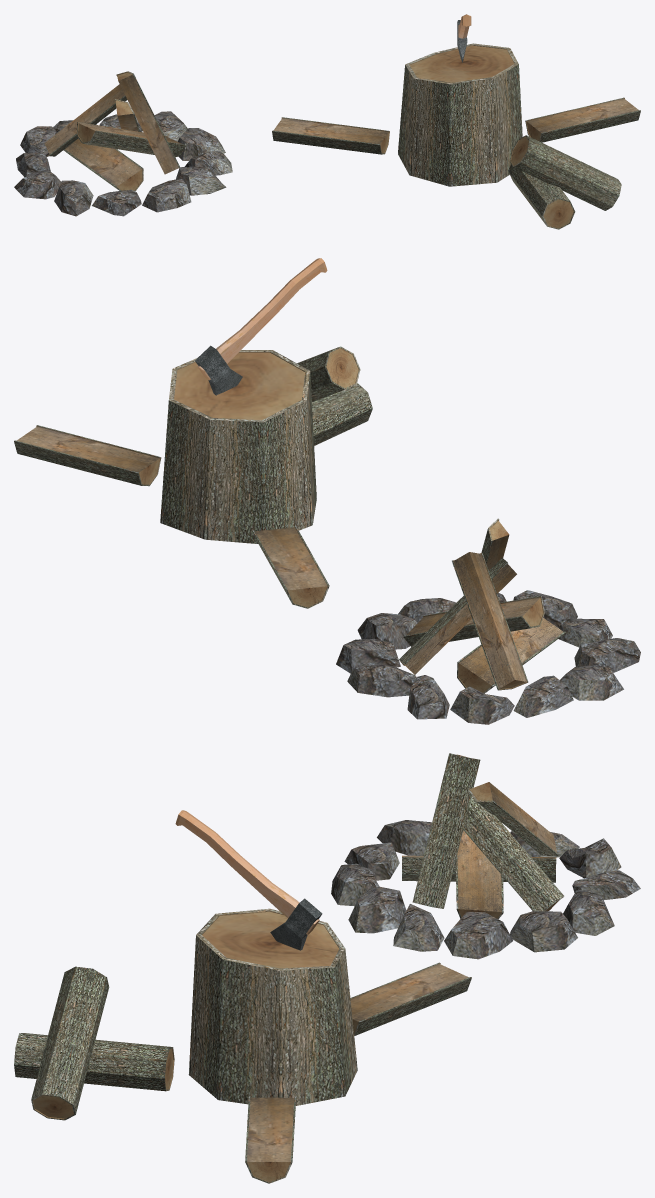
The model's file is 1IGP19_Grala_Jakub_Texture_3SimpleProps.fbx.
3 views of the same model, one above another, from view 1: azimuth 30°, elevation 25°; view 2: azimuth 150°, elevation 25°; view 3: azimuth 270°, elevation 25° (orthographic). The views are drawn at different scales.
Visible parts, largest first — view 1: Stump, CampfireRing, Firewood.002, Firewood_Half.002, Firewood_Half.004, Firewood_Half.001, Firewood.001, Firewood_Quarter.002, Firewood_Half.003, Firewood_Quarter.001, Firewood_Quarter.003, Axe; view 2: Stump, CampfireRing, Firewood_Half.004, Firewood_Quarter.001, Firewood_Half.002, Axe, Firewood_Quarter.003, Firewood_Half.001, Firewood.001, Firewood.002, Firewood_Half.003, Firewood_Quarter.002; view 3: Stump, CampfireRing, Firewood.002, Firewood.001, Firewood_Quarter.002, Firewood_Half.002, Firewood_Quarter.003, Firewood_Half.004, Axe, Firewood_Half.003, Firewood_Quarter.001, Firewood_Half.001.
Boxes of the visible parts, <box> form: Stump: <box>398,43,522,186</box>; CampfireRing: <box>14,111,232,216</box>; Firewood.002: <box>509,135,621,210</box>; Firewood_Half.002: <box>272,117,389,154</box>; Firewood_Half.004: <box>525,97,640,142</box>; Firewood_Half.001: <box>63,138,143,191</box>; Firewood.001: <box>508,164,575,229</box>; Firewood_Quarter.002: <box>116,71,179,174</box>; Firewood_Half.003: <box>77,122,186,157</box>; Firewood_Quarter.001: <box>44,84,127,156</box>; Firewood_Quarter.003: <box>115,99,139,131</box>; Axe: <box>457,14,471,62</box>; Stump: <box>160,350,316,543</box>; CampfireRing: <box>336,590,640,724</box>; Firewood_Half.004: <box>14,425,161,486</box>; Firewood_Quarter.001: <box>452,552,528,690</box>; Firewood_Half.002: <box>252,526,329,608</box>; Axe: <box>195,258,327,395</box>; Firewood_Quarter.003: <box>399,558,516,674</box>; Firewood_Half.001: <box>457,618,565,693</box>; Firewood.001: <box>312,383,372,445</box>; Firewood.002: <box>297,346,360,402</box>; Firewood_Half.003: <box>403,596,544,646</box>; Firewood_Quarter.002: <box>481,518,509,570</box>; Stump: <box>188,908,357,1105</box>; CampfireRing: <box>331,820,640,959</box>; Firewood.002: <box>31,966,109,1120</box>; Firewood.001: <box>14,1033,174,1091</box>; Firewood_Quarter.002: <box>412,753,480,908</box>; Firewood_Half.002: <box>350,962,471,1035</box>; Firewood_Quarter.003: <box>463,795,564,911</box>; Firewood_Half.004: <box>245,1096,296,1183</box>; Axe: <box>175,810,322,950</box>; Firewood_Half.003: <box>455,822,503,919</box>; Firewood_Quarter.001: <box>467,782,558,855</box>; Firewood_Half.001: <box>402,855,556,882</box>.
Bounding box in the file's own units: 357 × 116 × 264.
Materials: 6 (6 with a texture image).
